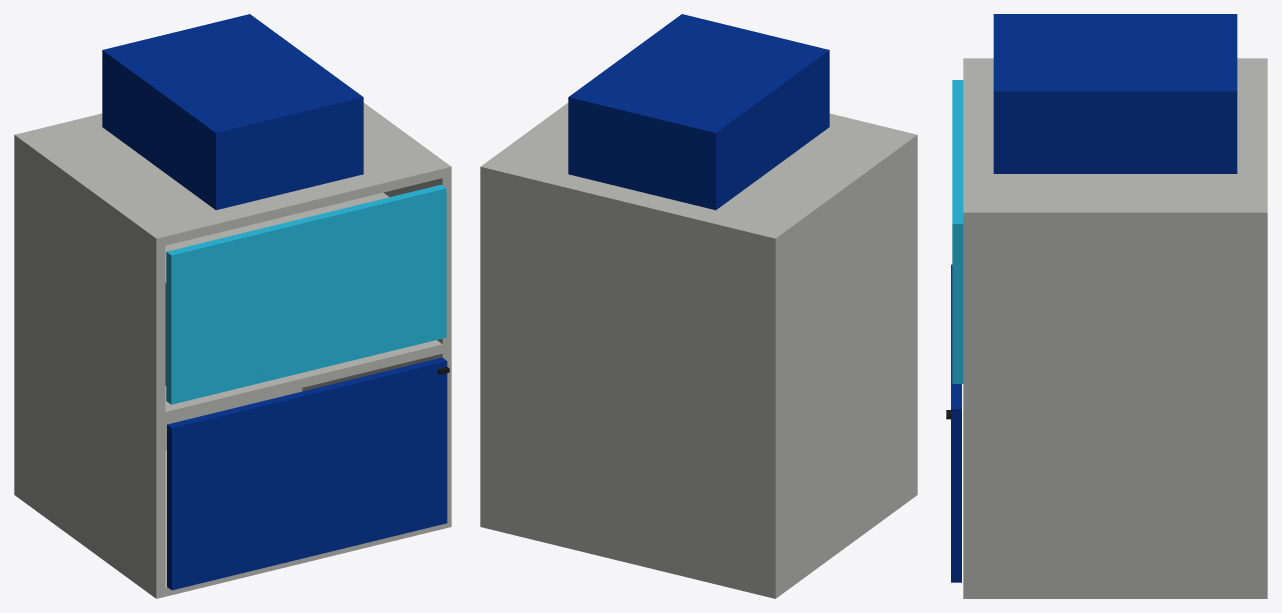
Rendered from synth_v3d.glb.
3 views of the same model, side by side, from view 1: azimuth 30°, elevation 25°; view 2: azimuth 150°, elevation 25°; view 3: azimuth 270°, elevation 25° (orthographic). The views are drawn at different scales.
Parts seen in each view (by area): view 1: n0, n9, n6, n10, n3, n4, n1, n2, n7, n5; view 2: n5, n0, n10, n3, n1, n4, n2; view 3: n1, n10, n3, n6, n9.
Part boxes in pixels (x1,y1,x2,y2): n0: [14, 132, 165, 598]; n9: [167, 357, 447, 590]; n6: [166, 184, 446, 404]; n10: [102, 14, 363, 210]; n3: [24, 111, 442, 245]; n4: [165, 340, 442, 421]; n1: [302, 103, 451, 528]; n2: [165, 450, 442, 596]; n7: [165, 192, 389, 385]; n5: [27, 113, 302, 450]; n5: [489, 168, 766, 595]; n0: [766, 132, 917, 598]; n10: [568, 14, 829, 210]; n3: [489, 111, 907, 245]; n1: [480, 103, 568, 528]; n4: [489, 344, 766, 421]; n2: [489, 520, 766, 596]; n1: [963, 208, 1267, 598]; n10: [993, 14, 1237, 173]; n3: [963, 62, 1267, 207]; n6: [952, 80, 963, 383]; n9: [951, 264, 961, 582].
Size of the model in its own units: 600 by 850 by 528.
